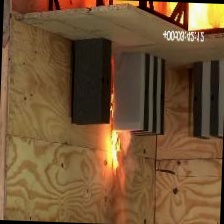fire: (96, 112, 135, 186)
